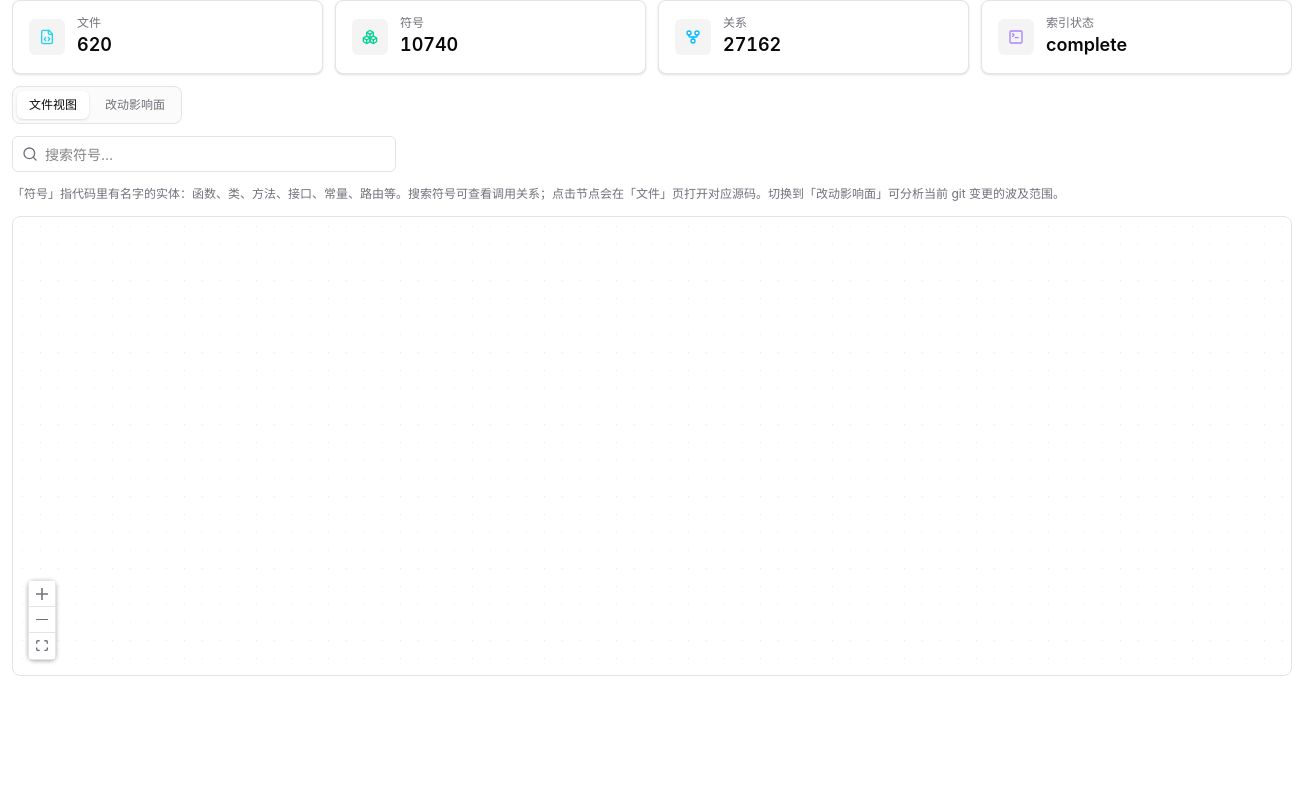
Scenario: ProjectGraphPanel › shows the no-git notice in affected mode for non-git projects
Expected: the text "620" is shown, [77, 34, 112, 55]
# Wait for stats to render before switching modes.
Click the button "改动影响面" at (135,105), box [93, 91, 177, 119]
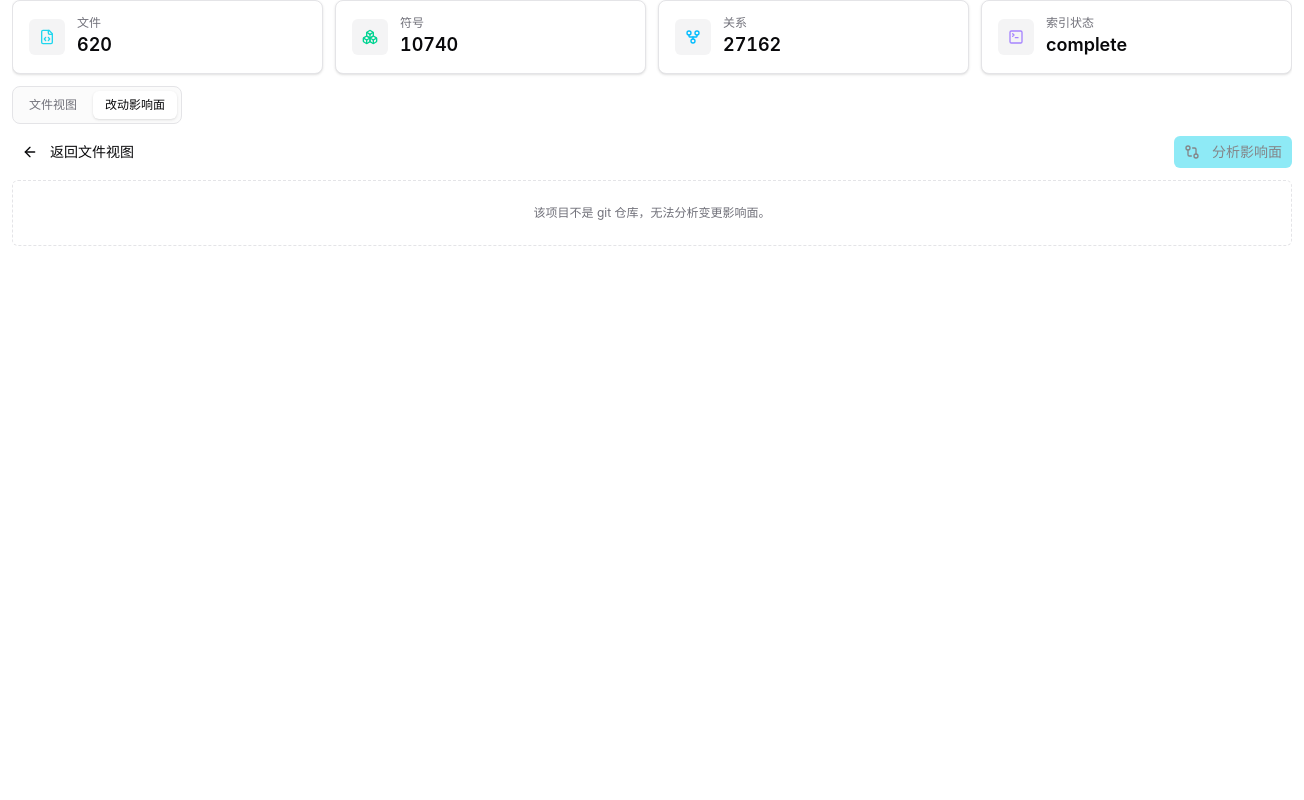
Now the text "该项目不是 git 仓库，无法分析变更影响面。" is shown, box [534, 205, 770, 220]
